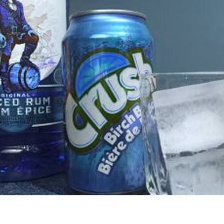bottle: (0, 0, 74, 183)
can: (61, 6, 160, 199)
